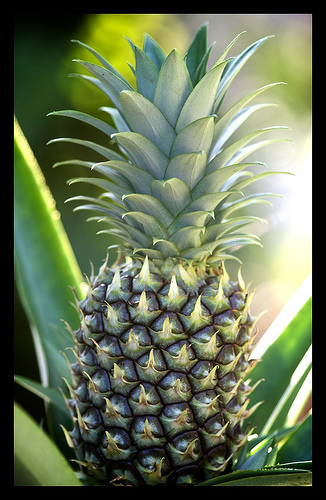pineapple: (43, 21, 294, 487)
